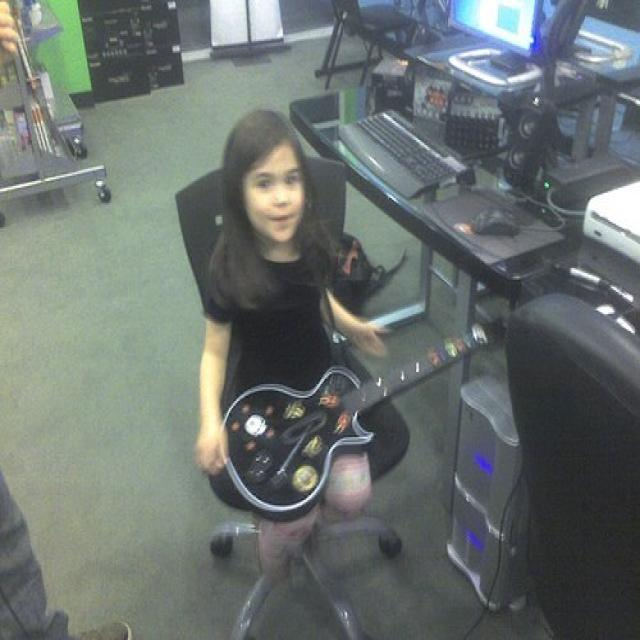guitar: (216, 315, 522, 525)
